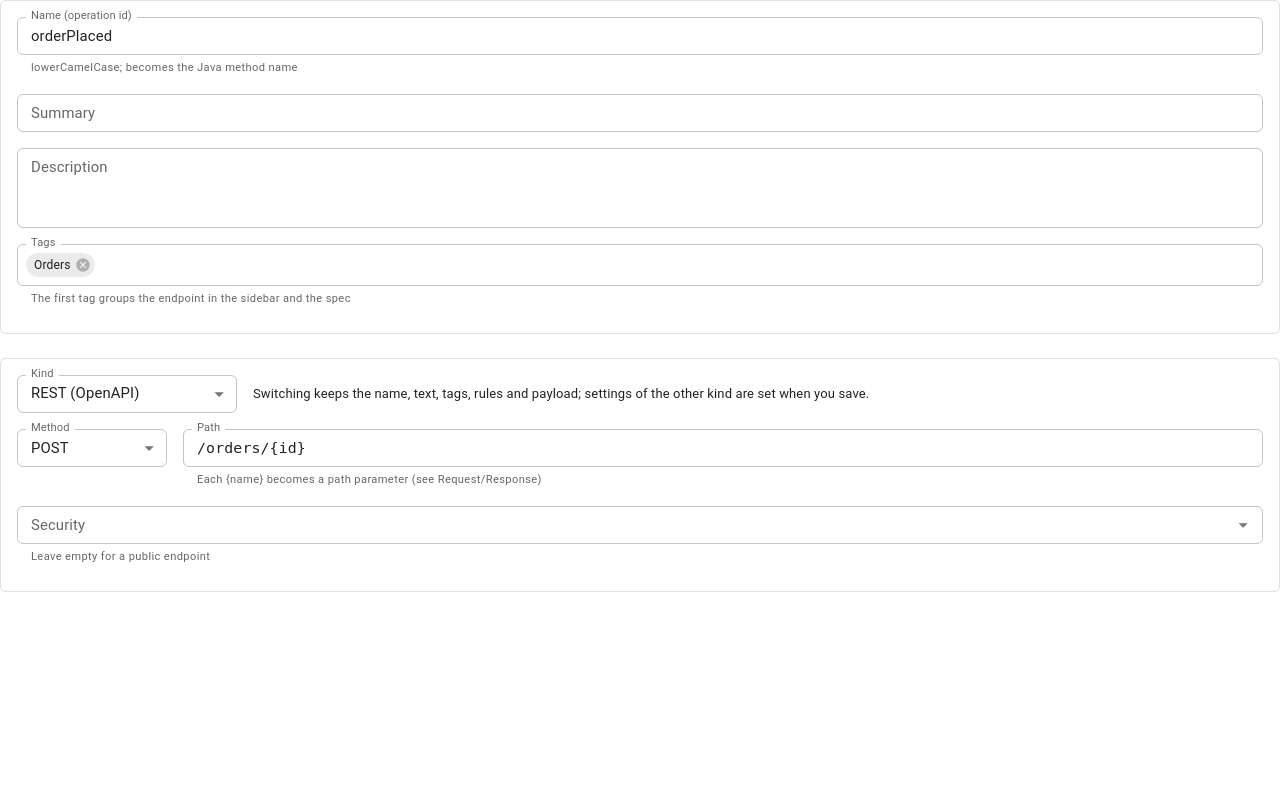
Test case: switching an endpoint between REST and async › turns the body into the message and keeps only headers
Click the dropdown named "Kind": (85, 393) [31, 384, 140, 402]
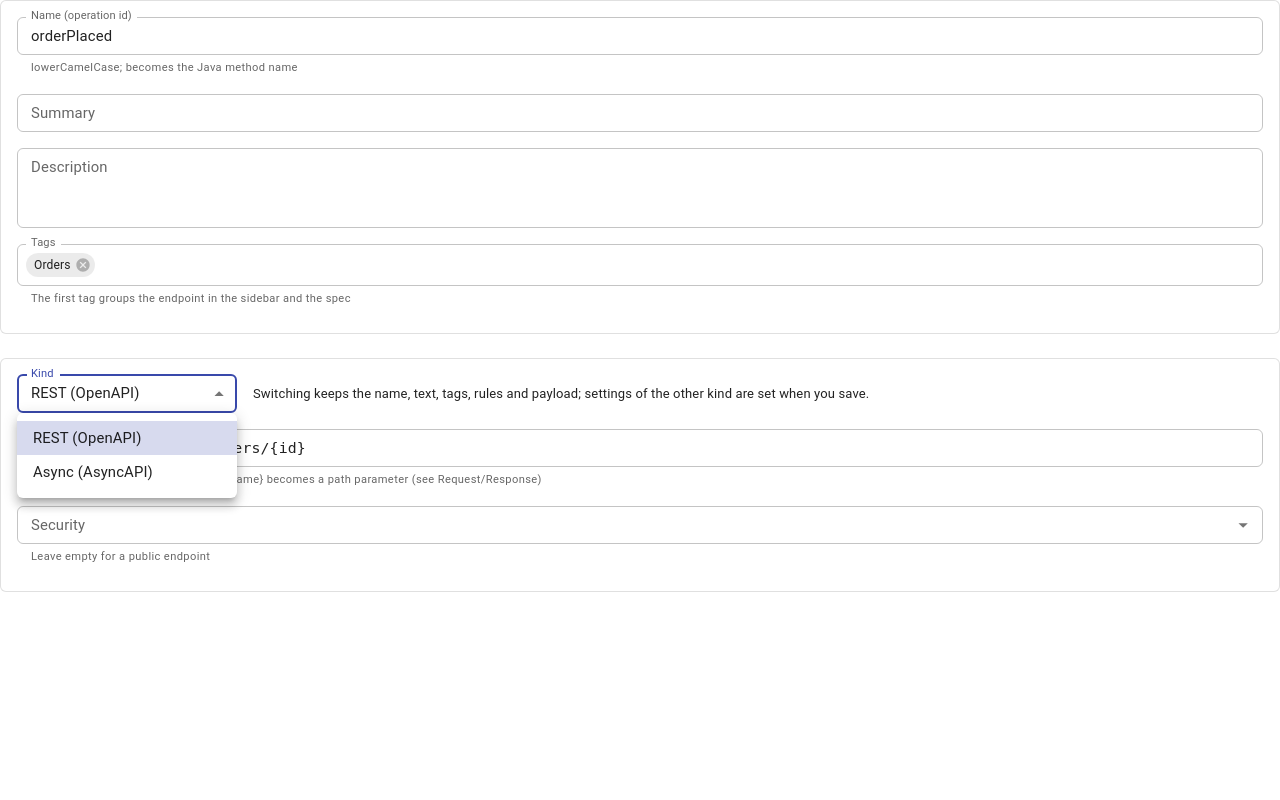
Click the option "Async (AsyncAPI)": (93, 472) [33, 463, 153, 481]
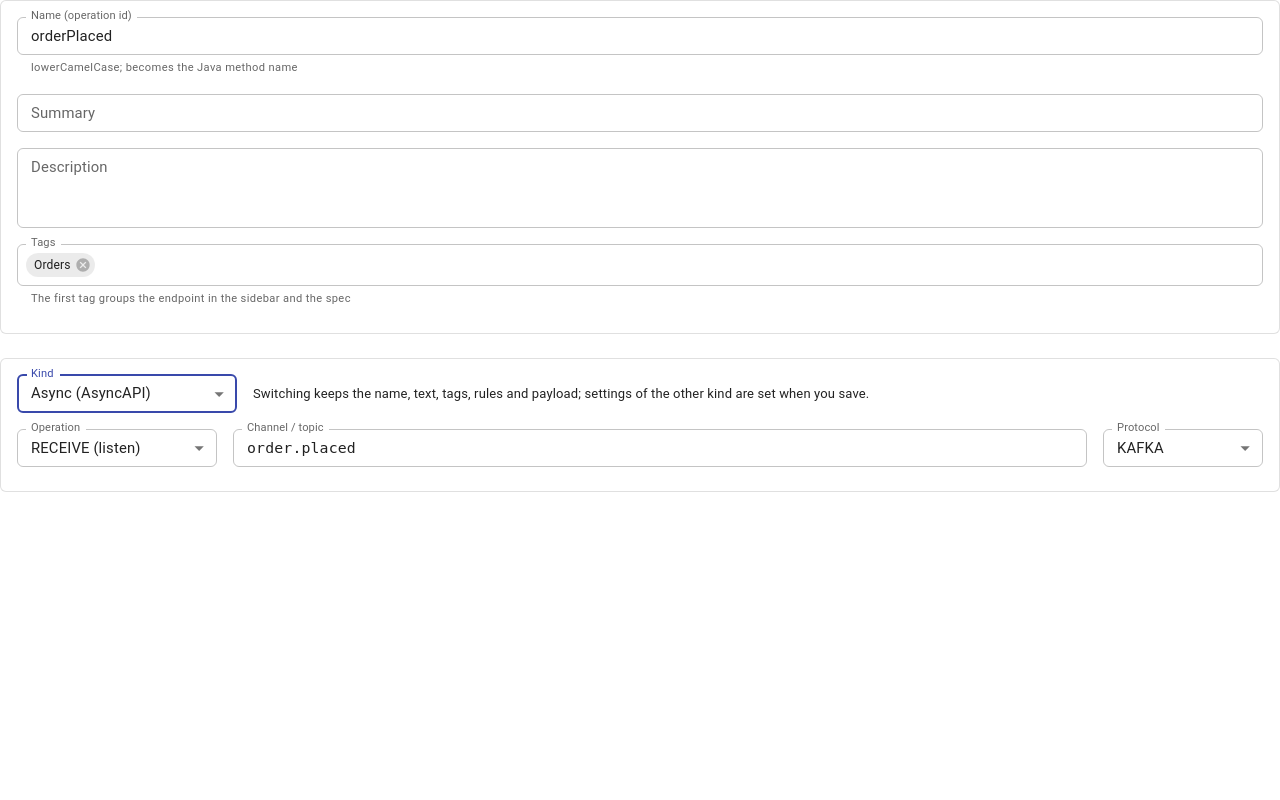
Expected: the field labelled "Channel / topic" holds "order.placed", [233, 429, 1087, 467]
